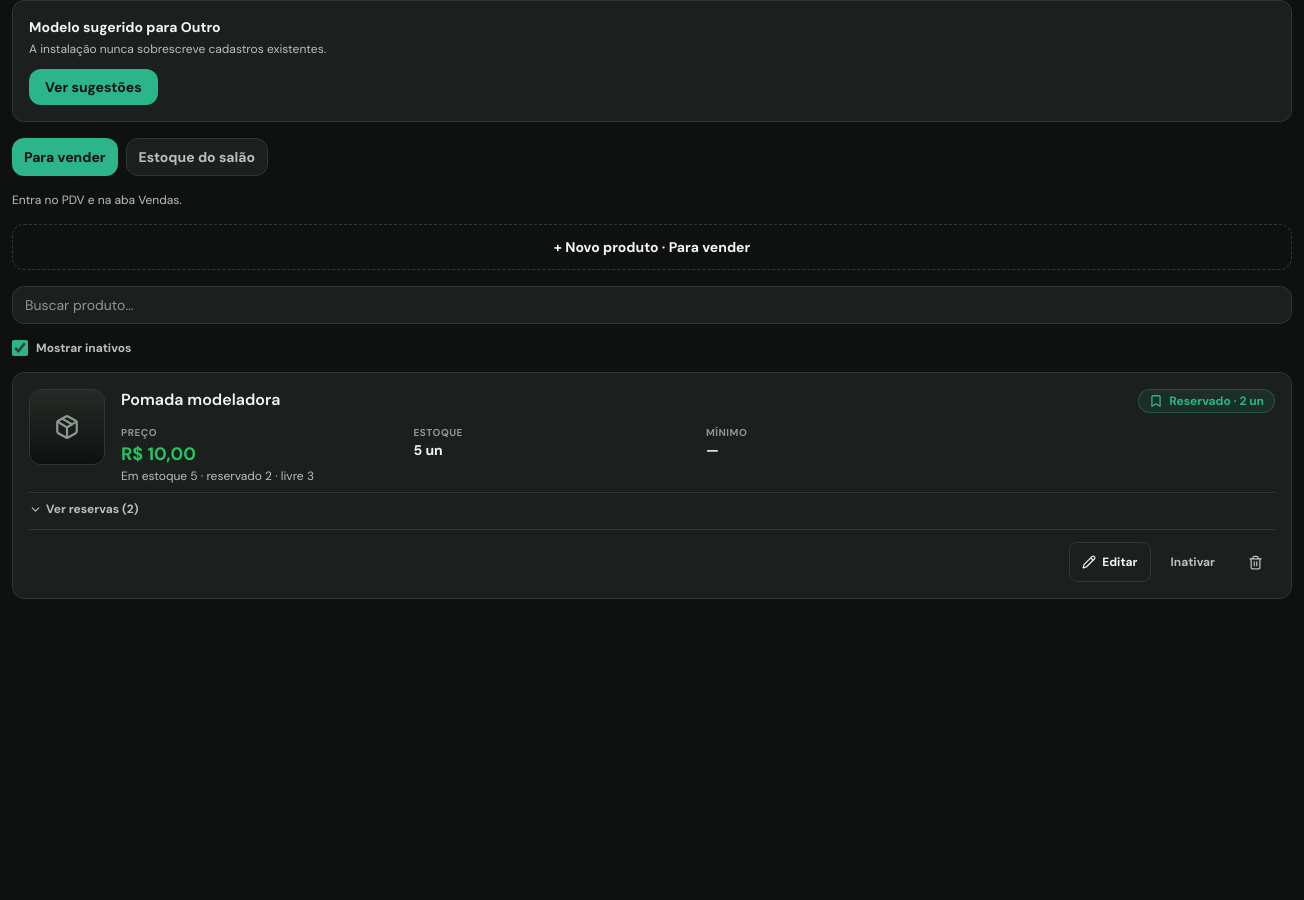
Test case: ProductCatalogPanel — reservas no card › expande a lista de reservas sem abrir o modal de edição
This screenshot has width=1304, height=900.
Click the button "Ver reservas (2)" at (84, 509), box [29,501,139,517]
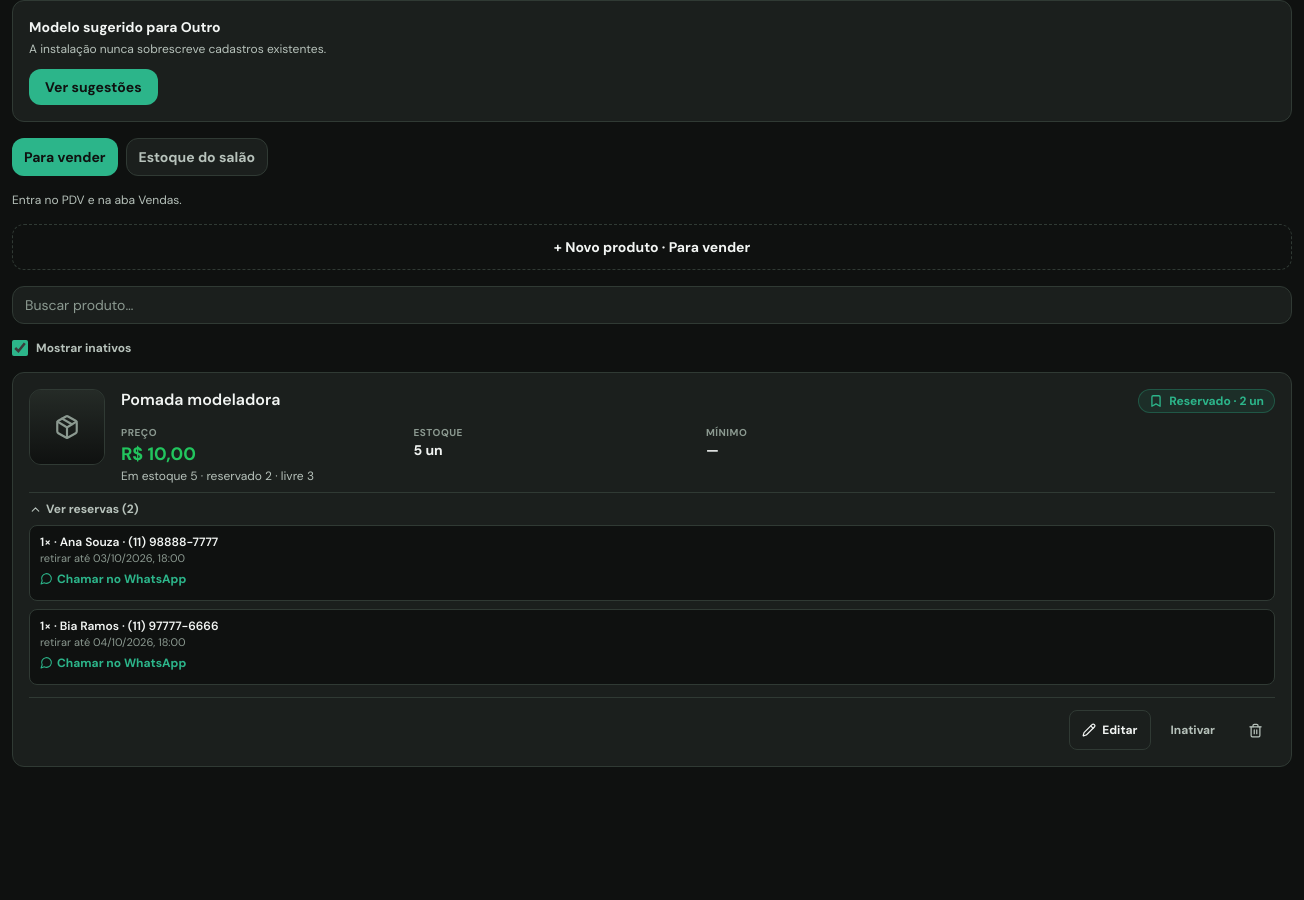
Expected: the text "1× · Ana Souza · (11) 98888-7777" is shown, [40,534,218,550]
Expected: the text "1× · Bia Ramos · (11) 97777-6666" is shown, [40,618,219,634]
